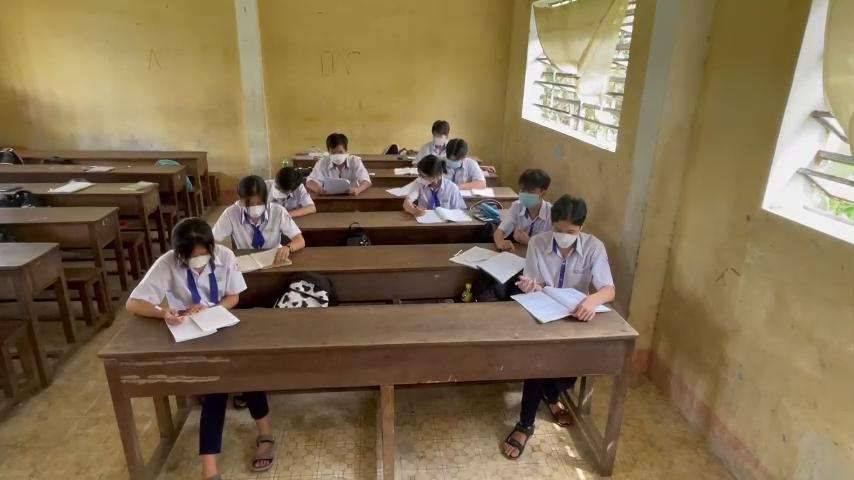Look Around: (507, 171, 552, 230), (411, 152, 448, 191), (427, 119, 451, 149)
Normal: (144, 218, 242, 326), (535, 203, 608, 305), (222, 178, 287, 258), (305, 136, 376, 194), (270, 167, 304, 201)
